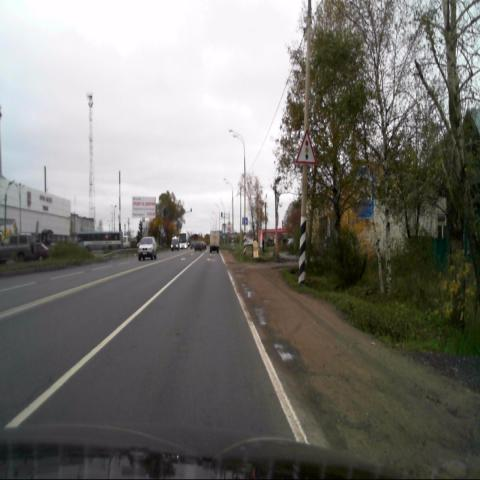1_8: (296, 130, 316, 164)
